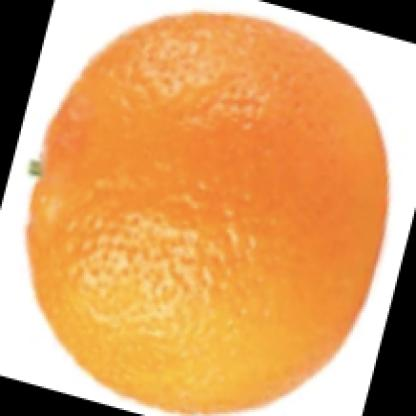fresh: (25, 11, 391, 414)
